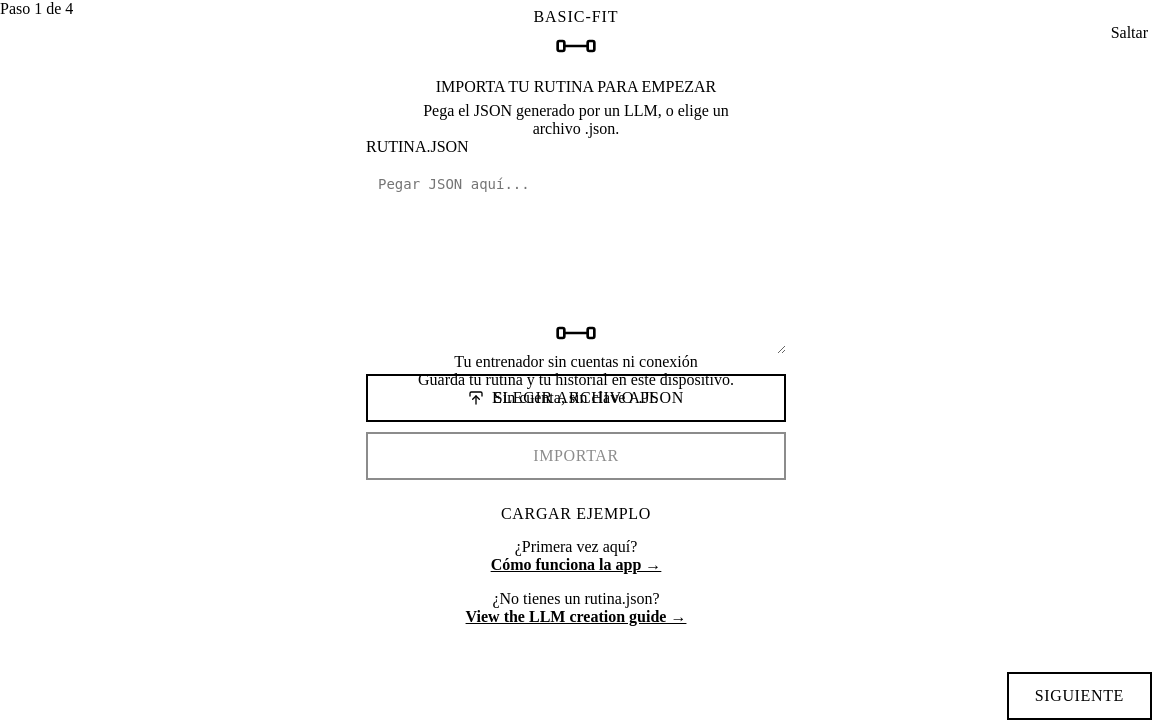
Scenario: App / Shell — onboarding gating › dismissing onboarding (Saltar) closes it and reveals ImportScreen underneath
Click the button "Saltar". click: (1129, 33)
box: [1107, 18, 1151, 48]
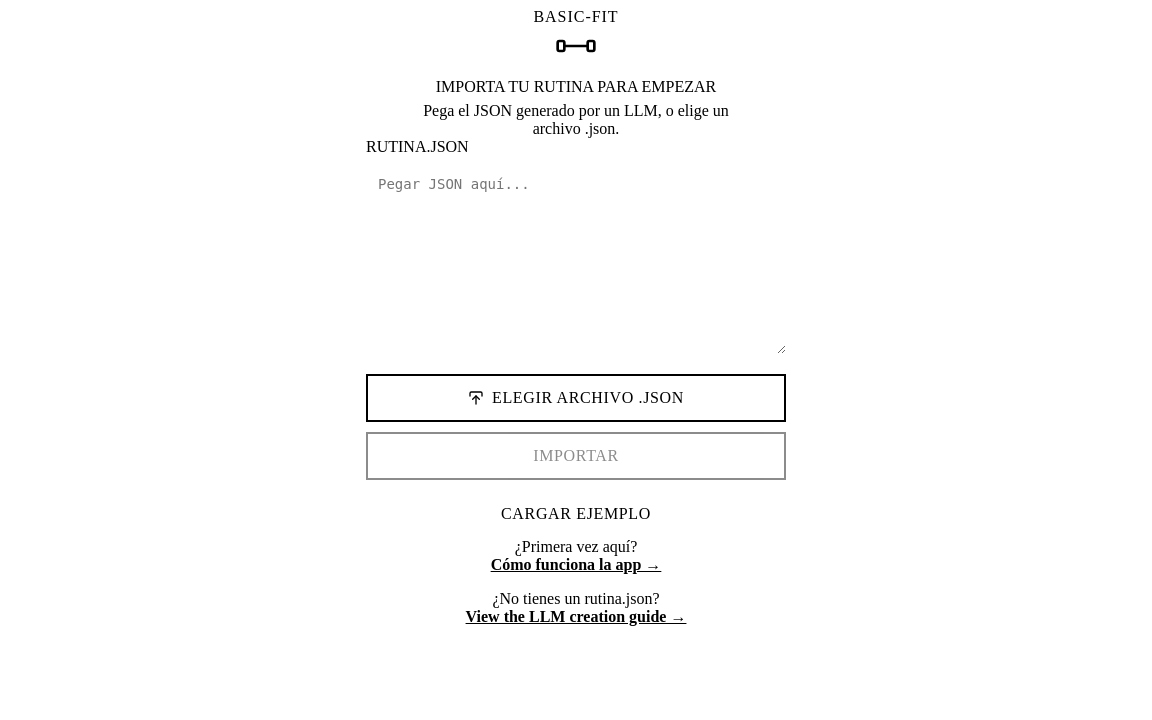
Expected: the text box labelled "rutina.json" is shown, [366, 162, 786, 354]
Expected: the dialog is gone
